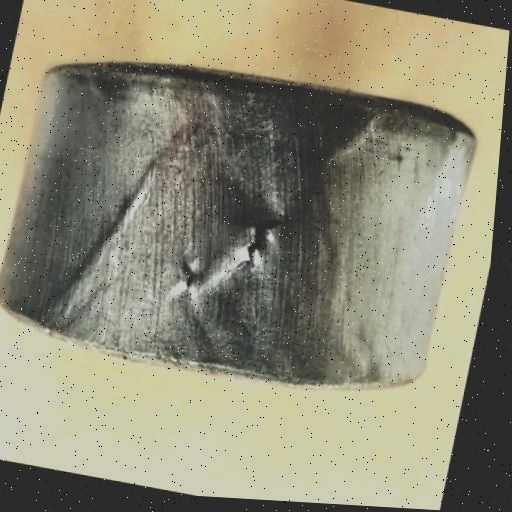crack: (236, 202, 291, 271), (180, 269, 200, 294)
